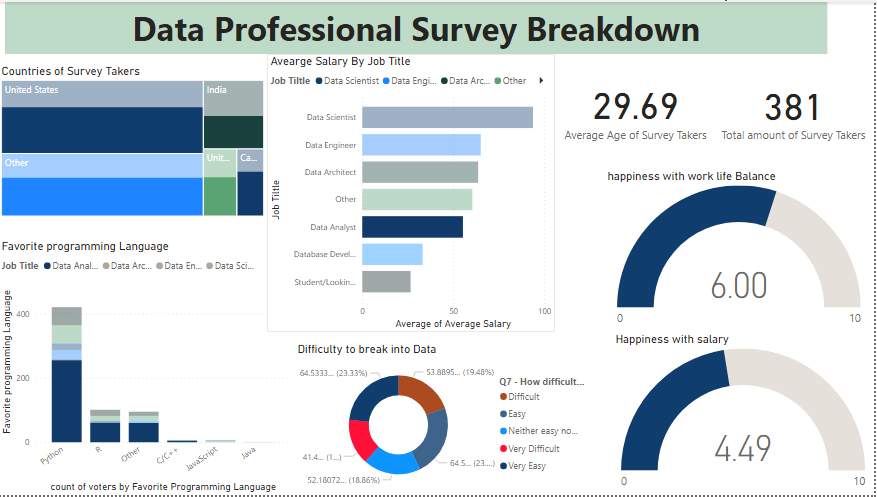

Layout of this report page (visuals, bound fields, positions):
{"tool":"powerbi","page":{"name":"Page 1","canvas":[1280,720],"ordinal":0},"visuals":[{"type":"textbox","box":[10.1,0,1201,75.6],"z":0},{"type":"card","fields":{"Values":["CountNonNull(Data Professional Survey.Unique ID)"]},"box":[1044.8,99.1,235.2,114.2],"z":1000},{"type":"card","fields":{"Values":["Avg(Data Professional Survey.Q10 - Current Age)"]},"box":[813,90.7,235.2,129.3],"z":2000},{"type":"columnChart","title":"Favorite programming Language","fields":{"Category":["Data Professional Survey.Q5 - Favorite Programming Language.1"],"Series":["Data Professional Survey.Q1 - Which Title Best Fits your Current Role?.1"],"Y":["CountNonNull(Data Professional Survey.Unique ID)"]},"box":[0,346,431.7,374.6],"z":3000},{"type":"treemap","title":"Countries of Survey Takers","fields":{"Group":["Data Professional Survey.Q11 - Which Country do you live in?.1"],"Values":["CountNonNull(Data Professional Survey.Q11 - Which Country do you live in?.1)"]},"box":[0,90.7,393.1,226.8],"z":4000},{"type":"gauge","title":"happiness with work life Balance","fields":{"Y":["Avg(Data Professional Survey.Q6 - How Happy are you in your Current Position with the following? (Work/Life Balance))"],"MinValue":["Min(Data Professional Survey.Q6 - How Happy are you in your Current Position with the following? (Work/Life Balance))1"],"MaxValue":["Max(Data Professional Survey.Q6 - How Happy are you in your Current Position with the following? (Work/Life Balance))2"]},"box":[885,243.9,394.3,238.1],"z":5000},{"type":"gauge","title":"Happiness with salary","fields":{"Y":["Avg(Data Professional Survey.Q6 - How Happy are you in your Current Position with the following? (Salary))"],"MinValue":["Min(Data Professional Survey.Q6 - How Happy are you in your Current Position with the following? (Salary))"],"MaxValue":["Max(Data Professional Survey.Q6 - How Happy are you in your Current Position with the following? (Salary))"]},"box":[896.7,481.9,382.6,238.1],"z":6000},{"type":"donutChart","title":"Difficulty to break into Data","fields":{"Y":["Avg(Data Professional Survey.Average Salary)"],"Series":["Data Professional Survey.Q7 - How difficult was it for you to break into Data?"]},"box":[431.7,497.2,431.7,223.4],"z":7000},{"type":"barChart","title":"Avearge Salary By Job Title","fields":{"Y":["Avg(Data Professional Survey.Average Salary)"],"Category":["Data Professional Survey.Q1 - Which Title Best Fits your Current Role?.1"],"Series":["Data Professional Survey.Q1 - Which Title Best Fits your Current Role?.1"]},"box":[393.1,75.6,419.9,406.5],"z":8000}]}

Visuals, with their boxes in screenshot pixels (x1, y1, x2, y2), scaled from the page's 1280x720 canvas onto the 877x497 screenshot:
textbox: [7, 0, 830, 52]
card - CountNonNull(Data Professional Survey.Unique ID): [716, 68, 876, 147]
card - Avg(Data Professional Survey.Q10 - Current Age): [557, 63, 718, 152]
"Favorite programming Language" columnChart: [0, 239, 296, 496]
"Countries of Survey Takers" treemap: [0, 63, 269, 219]
"happiness with work life Balance" gauge: [606, 168, 876, 333]
"Happiness with salary" gauge: [614, 333, 876, 496]
"Difficulty to break into Data" donutChart: [296, 343, 592, 496]
"Avearge Salary By Job Title" barChart: [269, 52, 557, 333]
